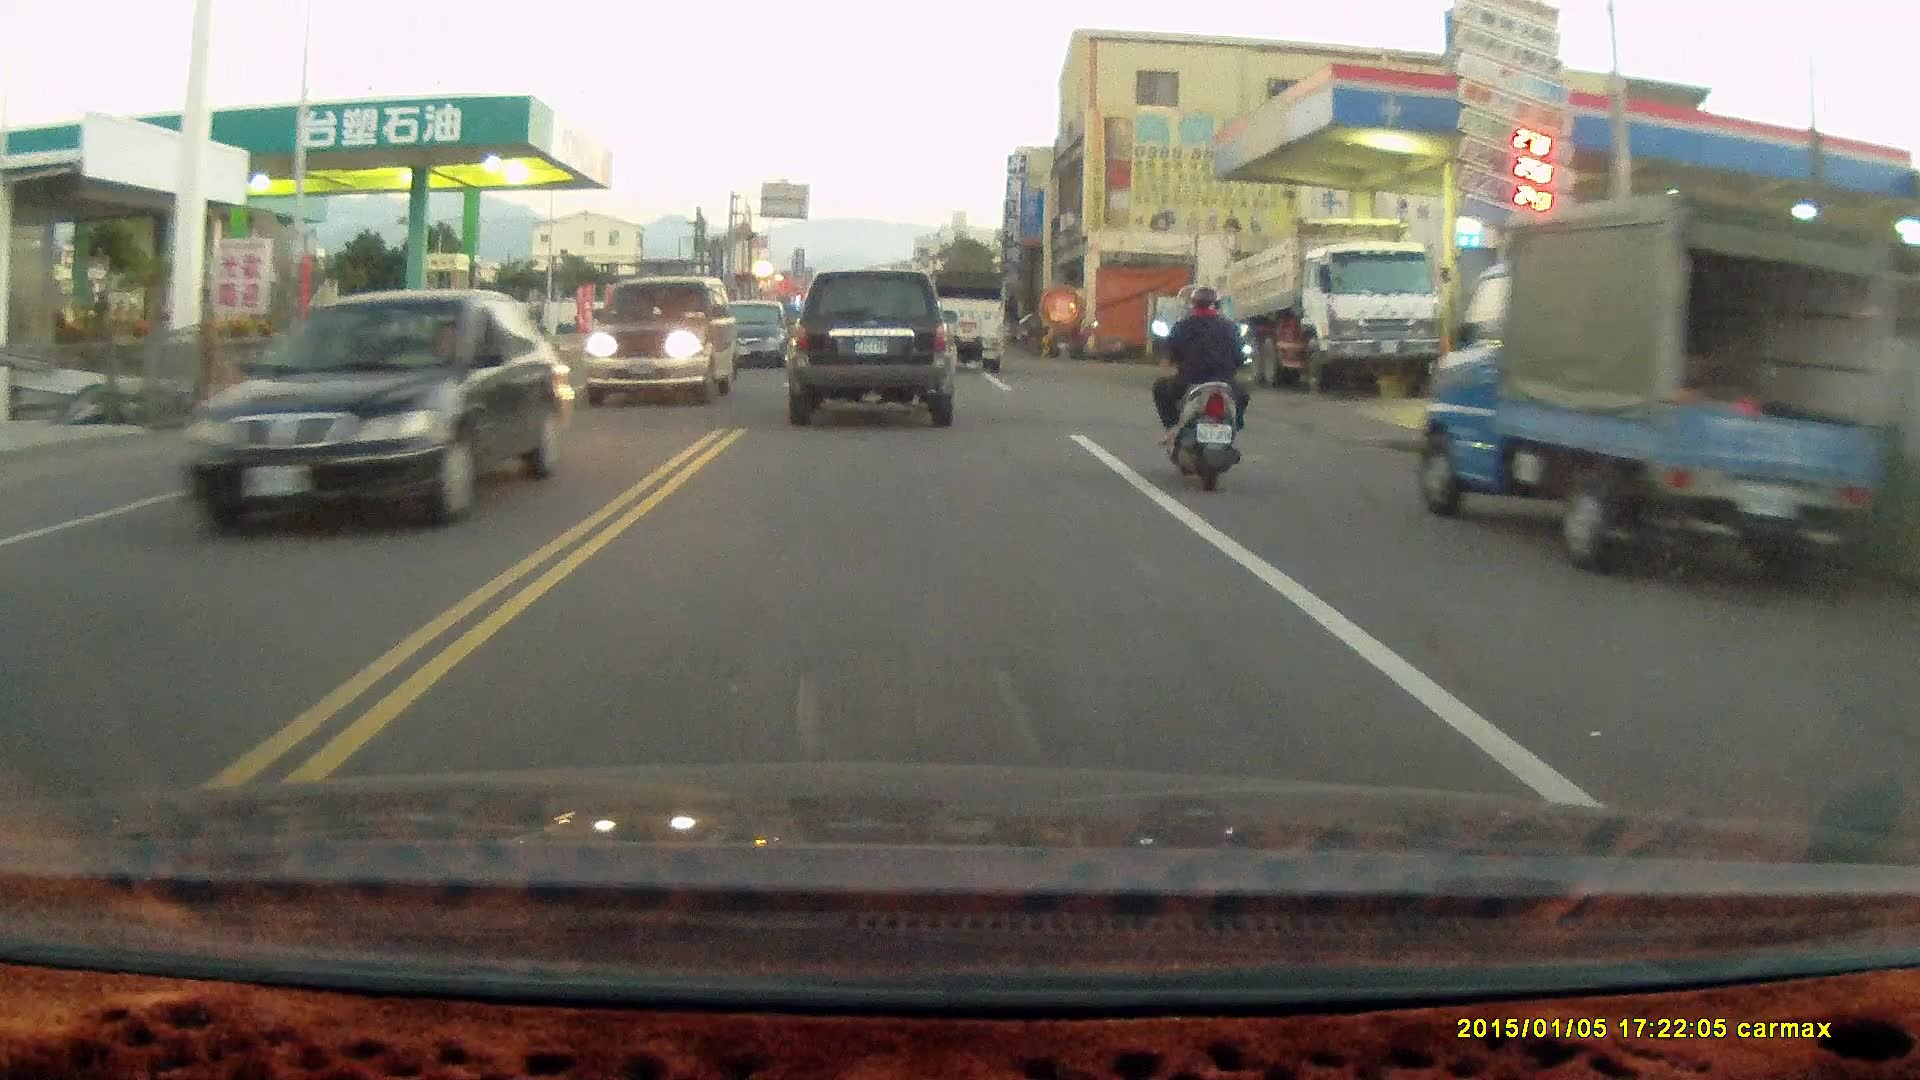rider: (1148, 281, 1253, 491)
vehicle: (1420, 189, 1902, 582), (170, 286, 563, 534), (1210, 200, 1440, 383), (789, 262, 955, 418), (589, 268, 740, 402), (916, 259, 1009, 370), (710, 300, 804, 371)
